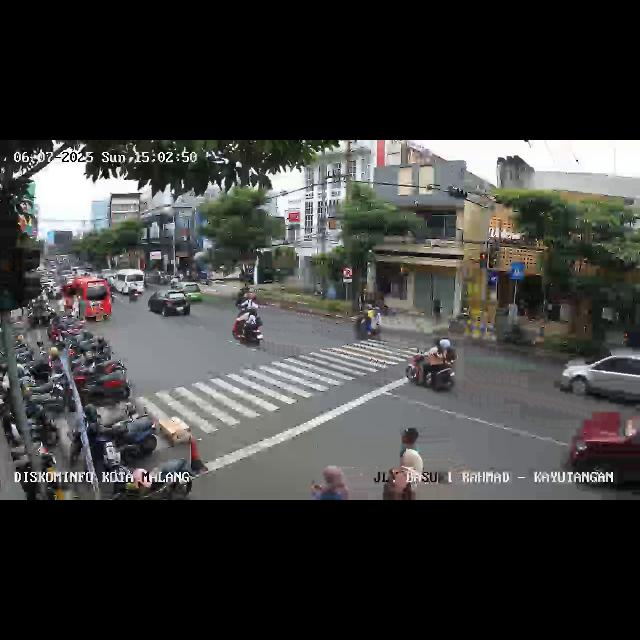car: (568, 408, 640, 496), (560, 349, 640, 409), (60, 277, 112, 323), (147, 290, 191, 320), (109, 270, 145, 296), (172, 282, 204, 304)
motorcycle: (405, 336, 459, 394), (232, 306, 264, 349), (353, 304, 383, 344), (235, 286, 259, 312), (128, 277, 140, 303)
person: (307, 466, 353, 500), (397, 449, 423, 493), (380, 470, 416, 500), (395, 427, 427, 449)
